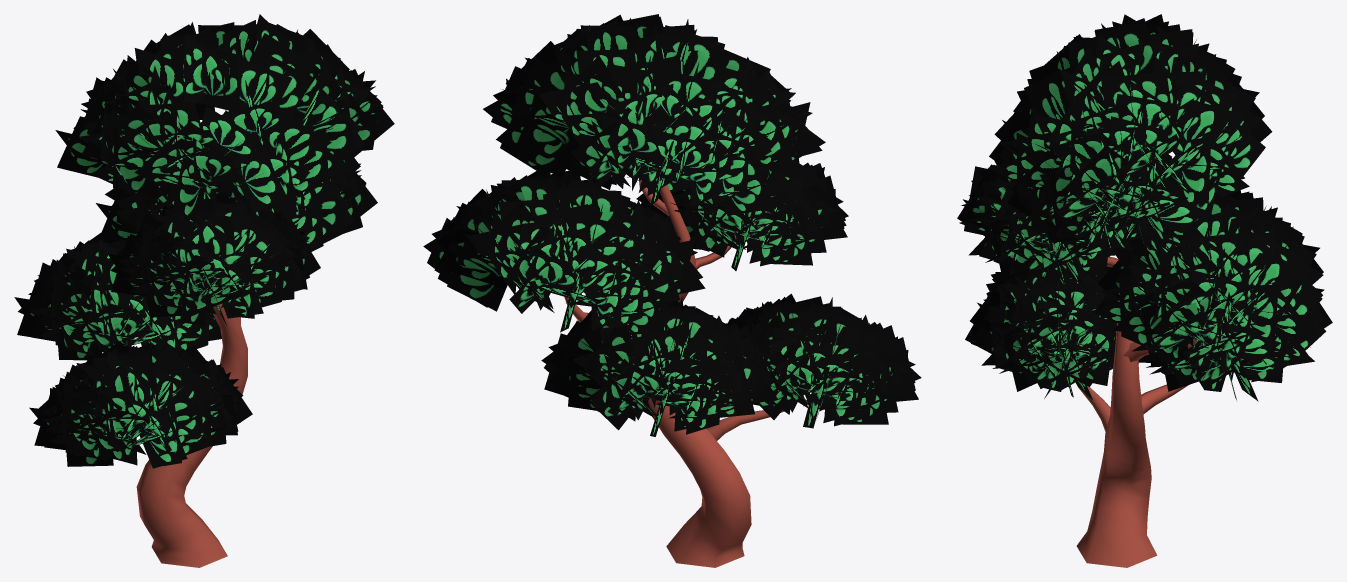
The model's file is Tree_01_01.fbx.
3 renders of one model, left to right at view 1: azimuth 30°, elevation 25°; view 2: azimuth 150°, elevation 25°; view 3: azimuth 270°, elevation 25°, orthographic. The views are drawn at different scales.
Parts seen in each view (by area): view 1: Plane.002, BezierCurve.024; view 2: Plane.002, BezierCurve.024; view 3: Plane.002, BezierCurve.024.
Part boxes in pixels (x1,y1,x2,y2): Plane.002: (14, 14, 394, 468); BezierCurve.024: (136, 303, 247, 567); Plane.002: (423, 14, 921, 436); BezierCurve.024: (564, 124, 783, 567); Plane.002: (957, 14, 1332, 401); BezierCurve.024: (1075, 257, 1196, 567).
Size of the model in its own units: 1055 by 1287 by 831.
Materials: 2 (1 with a texture image).
